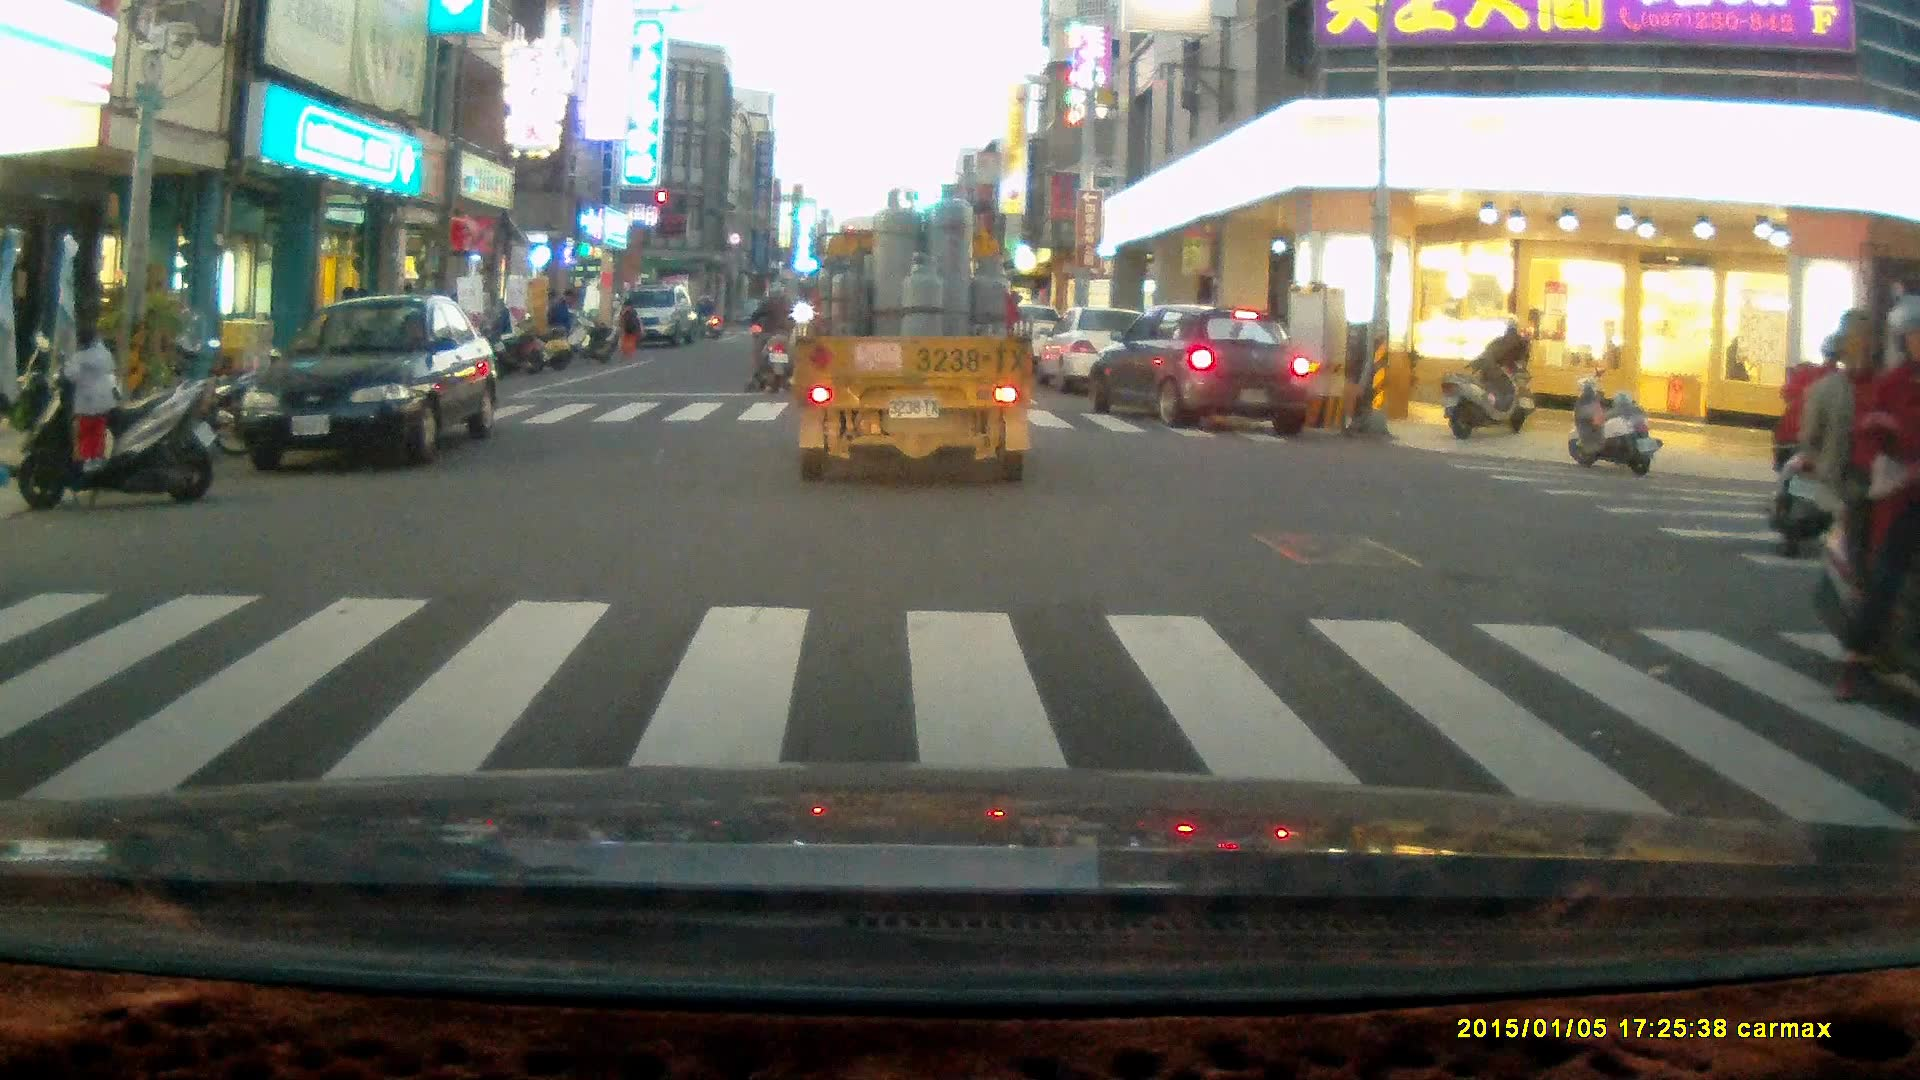pedestrian: (60, 320, 116, 473), (548, 285, 578, 354), (619, 297, 641, 357)
rider: (1796, 290, 1920, 705), (1767, 325, 1866, 561), (738, 267, 799, 393), (1478, 310, 1536, 433)
vehicle: (789, 185, 1032, 485), (241, 293, 498, 470), (1086, 308, 1313, 433), (1037, 307, 1170, 399), (614, 280, 693, 342)
